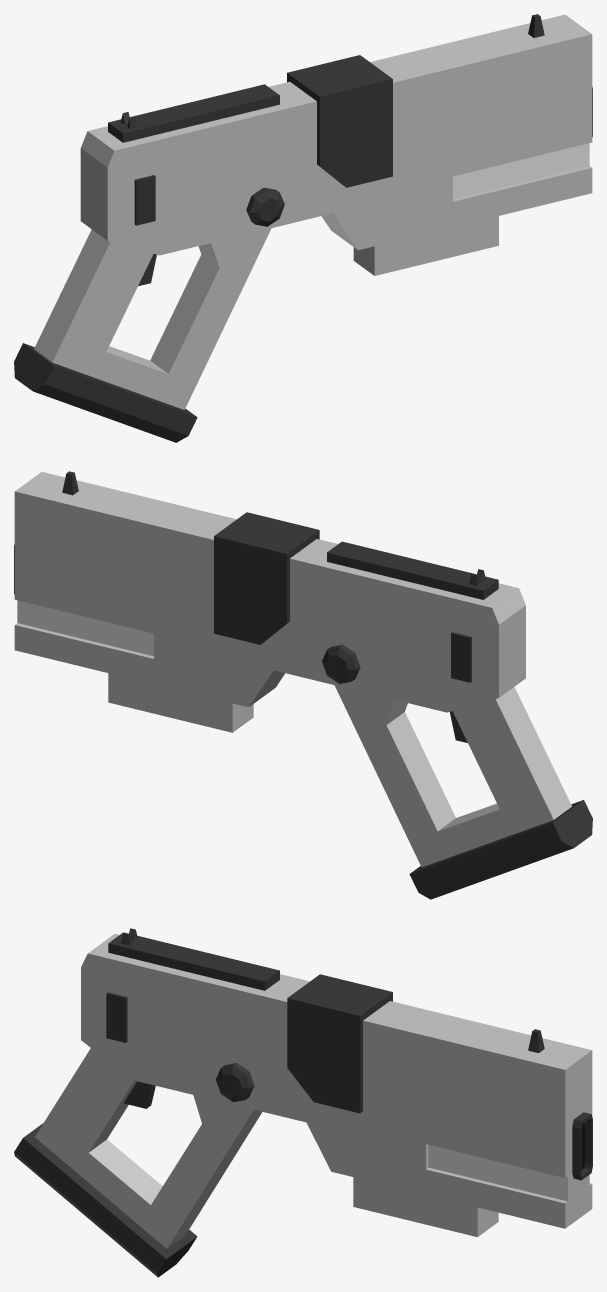
Rendered from Handgun_B_V4.FBX.
3 renders of one model, top to bottom at view 1: azimuth 30°, elevation 25°; view 2: azimuth 150°, elevation 25°; view 3: azimuth 330°, elevation 25°, orthographic.
Parts seen in each view (by area): view 1: Handgun_B_V4, Magazine; view 2: Handgun_B_V4, Magazine; view 3: Handgun_B_V4, Magazine.
Boxes of the visible parts, <box> form: Handgun_B_V4: <box>14,14,592,442</box>; Magazine: <box>353,216,498,275</box>; Handgun_B_V4: <box>14,471,592,899</box>; Magazine: <box>108,673,253,732</box>; Handgun_B_V4: <box>14,928,592,1277</box>; Magazine: <box>353,1177,498,1236</box>.
Bounding box in the file's own units: 133 × 74.83 × 15.86.
